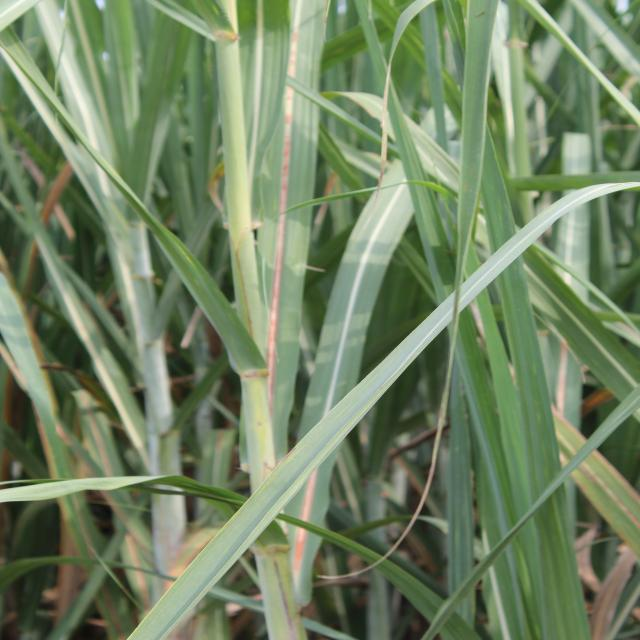Sugarcane: (465, 9, 574, 637), (403, 369, 639, 638), (1, 472, 424, 578), (256, 7, 321, 632), (1, 159, 140, 440), (2, 13, 158, 261), (308, 168, 423, 434), (111, 187, 264, 376), (371, 1, 459, 282), (519, 243, 640, 436), (493, 0, 640, 145), (450, 2, 502, 322), (551, 407, 640, 568), (136, 15, 190, 273), (280, 1, 326, 284), (270, 514, 428, 588), (341, 1, 402, 158), (293, 83, 398, 173), (0, 473, 242, 512), (489, 3, 526, 234), (102, 0, 146, 193), (38, 552, 128, 640), (164, 342, 238, 448), (273, 183, 449, 222), (415, 0, 447, 134), (0, 554, 119, 587), (328, 514, 432, 545), (507, 169, 640, 193), (317, 21, 375, 67)
